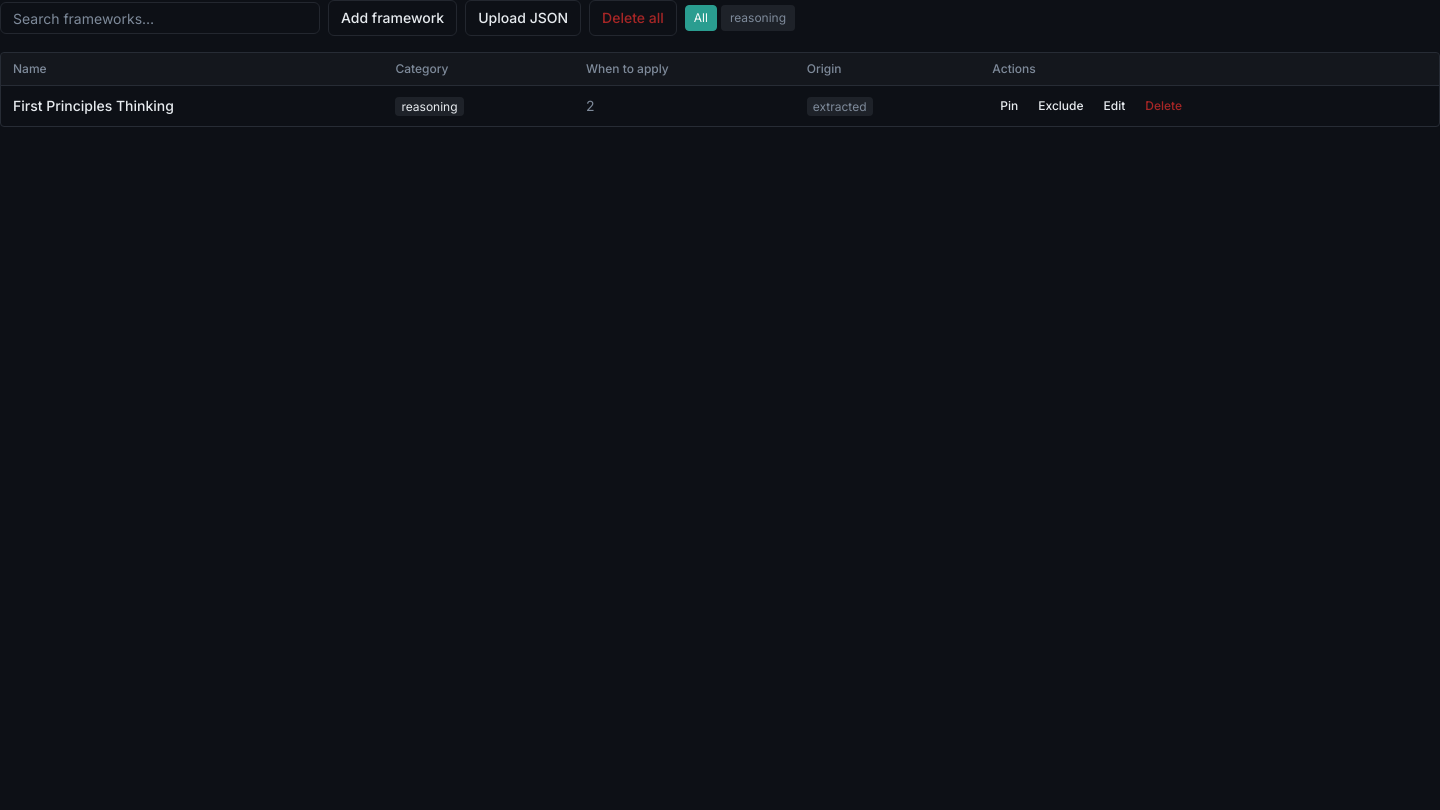
Scenario: FrameworkLibraryTab — KIN-319 › delete › clicking Delete opens confirm dialog with framework name in copy
The image size is (1440, 810).
Expected: the text "First Principles Thinking" is shown, top-left (13, 97), bottom-right (174, 114)
Click the button "Delete" at (1164, 106), box top-left (1137, 94), bottom-right (1190, 118)
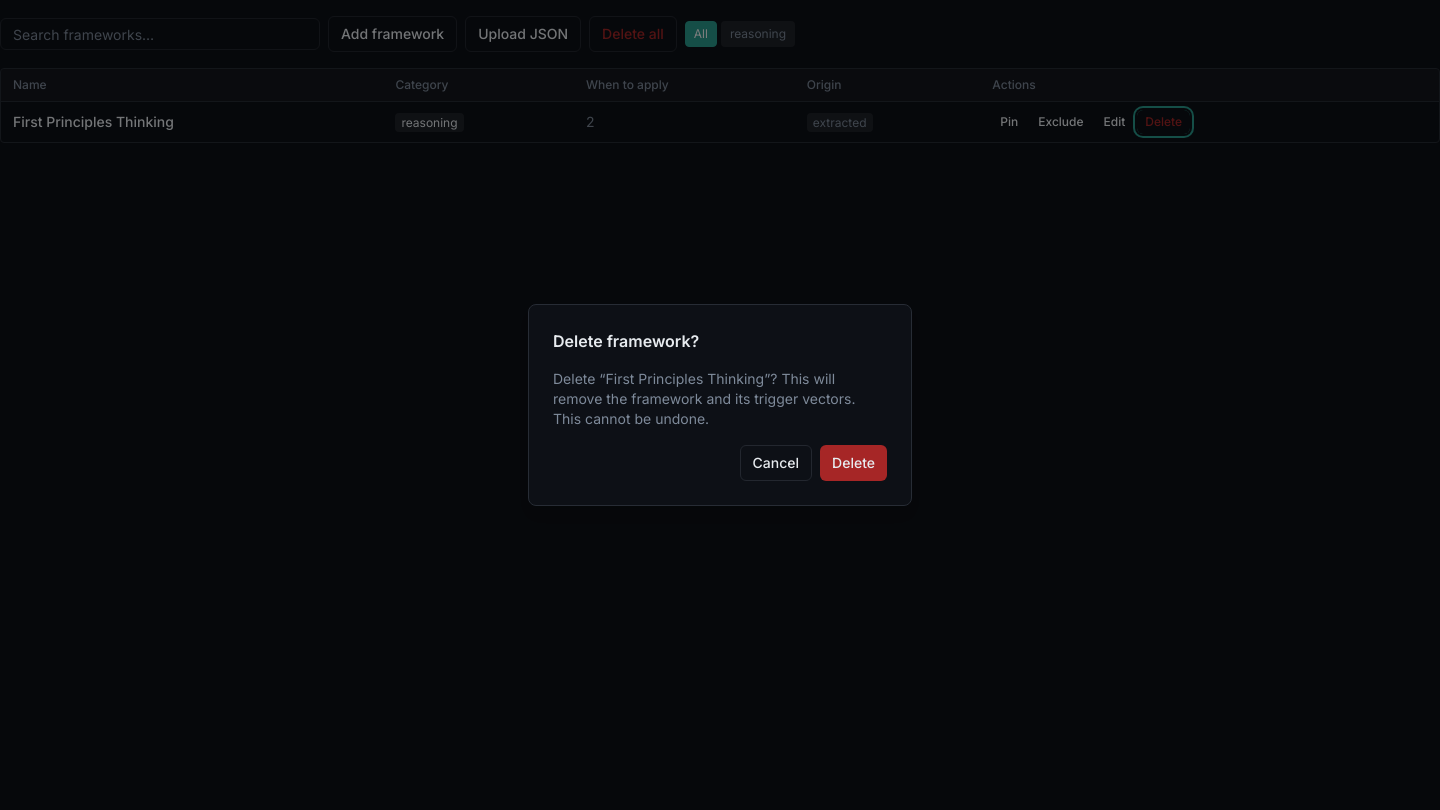
Expected: the heading "Delete framework?" is shown, top-left (553, 331), bottom-right (699, 351)
Expected: the button "Cancel" is shown, top-left (740, 445), bottom-right (812, 481)
Expected: the number of buttons "Delete" is 2, top-left (820, 445), bottom-right (887, 481); top-left (1137, 110), bottom-right (1190, 134)
